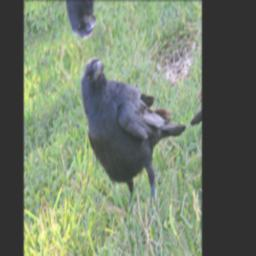Crow: (76, 12, 197, 240)
